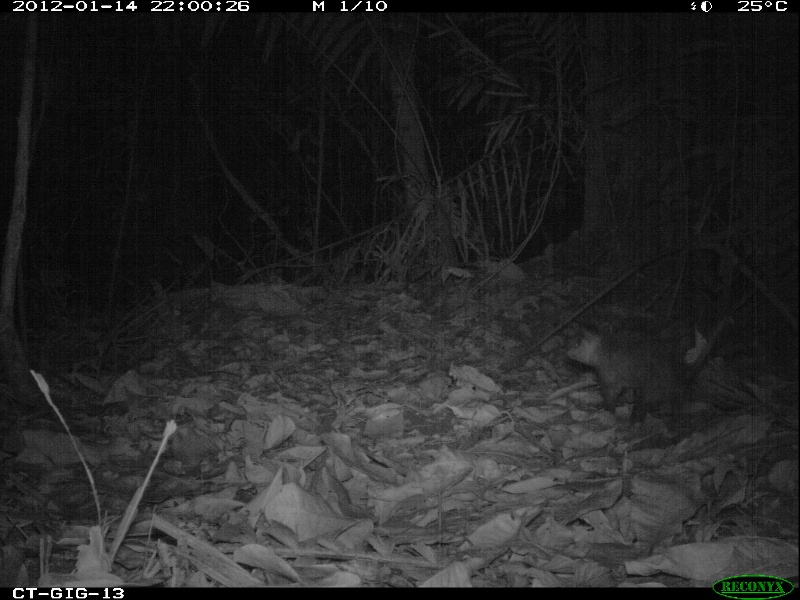opossum: (558, 301, 745, 443)
